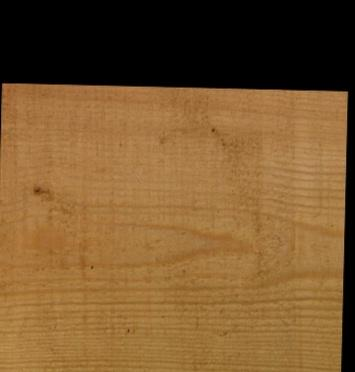small_knot: (30, 183, 41, 195)
